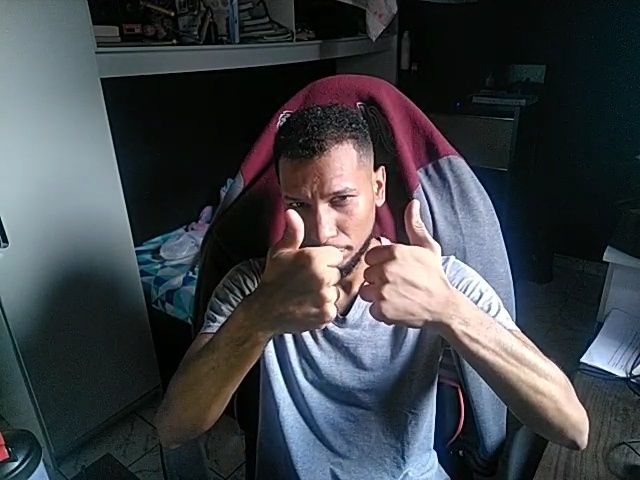sim: (358, 198, 456, 334), (255, 207, 346, 337)
